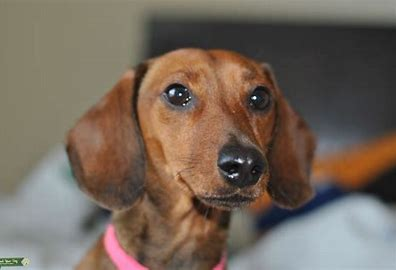dog: (51, 33, 321, 270)
